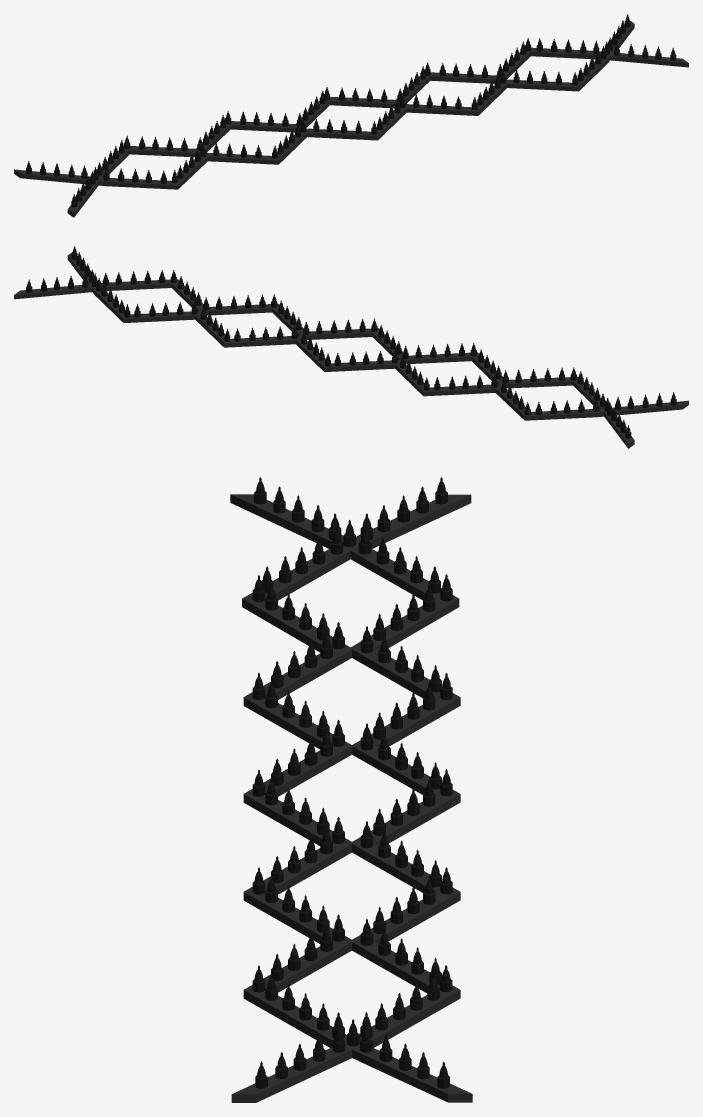
Rendered from herse.obj.
3 views of the same model, one above another, from view 1: azimuth 30°, elevation 25°; view 2: azimuth 150°, elevation 25°; view 3: azimuth 270°, elevation 25° (orthographic). The views are drawn at different scales.
Parts seen in each view (by area): view 1: Cube.005_Cube.012; view 2: Cube.005_Cube.012; view 3: Cube.005_Cube.012.
Part boxes in pixels (x1=…): Cube.005_Cube.012: x1=14, y1=14, x2=688, y2=217; Cube.005_Cube.012: x1=14, y1=246, x2=688, y2=448; Cube.005_Cube.012: x1=230, y1=477, x2=472, y2=1102.
Size of the model in its own units: 3.07 by 0.0794 by 0.524.
Materials: 1 (1 with a texture image).
